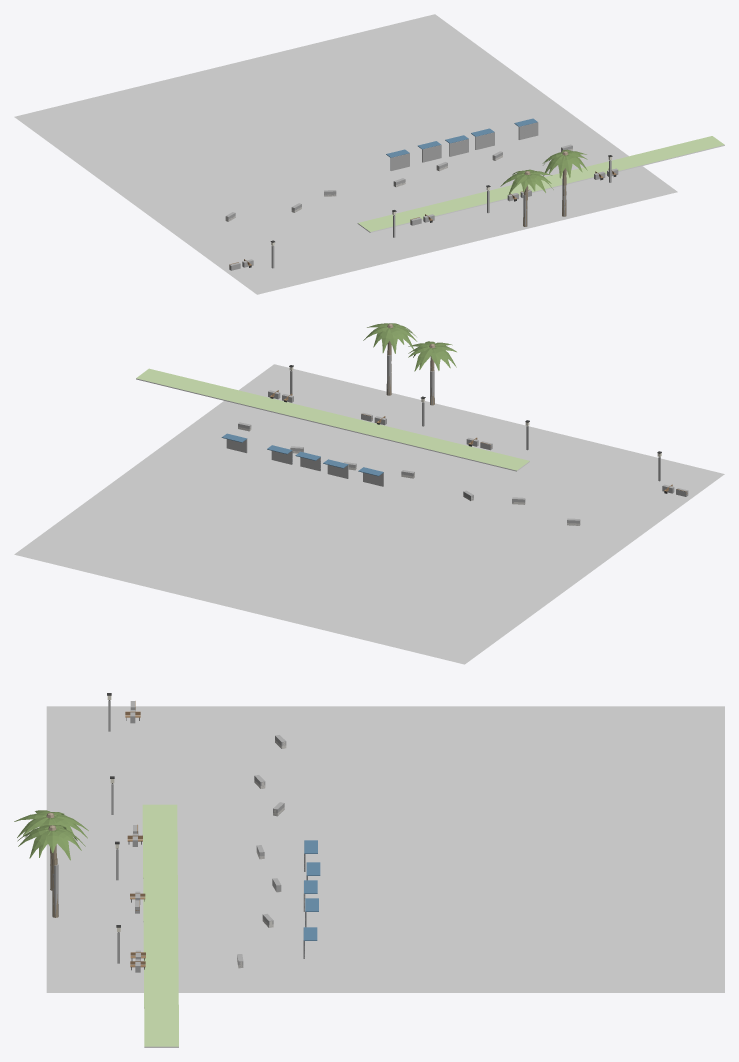
The model's file is chunk_03_03.glb.
The picture shows the model from 3 angles, top to bottom: view 1: azimuth 30°, elevation 25°; view 2: azimuth 150°, elevation 25°; view 3: azimuth 270°, elevation 25°; orthographic projection. The views are drawn at different scales.
Parts seen in each view (by area): view 1: chunk_03_03_LOD0, chunk_03_03_COL; view 2: chunk_03_03_LOD0, chunk_03_03_COL; view 3: chunk_03_03_LOD0, chunk_03_03_COL.
Part boxes in pixels (<box>): chunk_03_03_LOD0: <box>14,14,724,294</box>; chunk_03_03_COL: <box>225,122,618,270</box>; chunk_03_03_LOD0: <box>14,323,724,664</box>; chunk_03_03_COL: <box>226,354,688,525</box>; chunk_03_03_LOD0: <box>14,693,724,1047</box>; chunk_03_03_COL: <box>50,700,307,972</box>.
Size of what is drawn, in the model's own units: 95.56 by 12.01 by 83.83.
